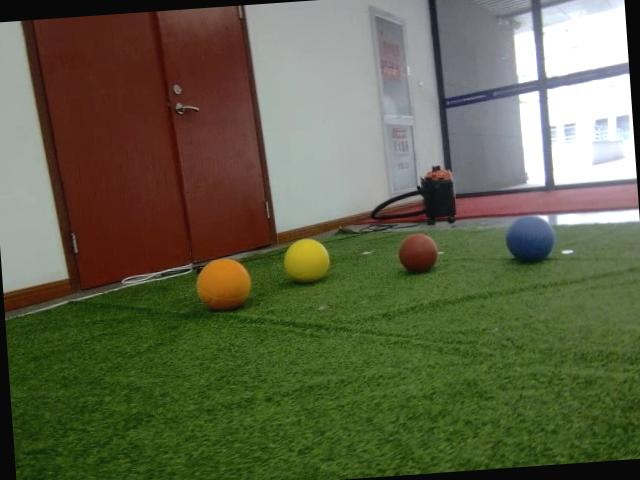blue_ball: (502, 214, 556, 264)
orange_ball: (193, 257, 254, 313)
red_ball: (396, 229, 440, 276)
yellow_ball: (280, 237, 332, 284)
